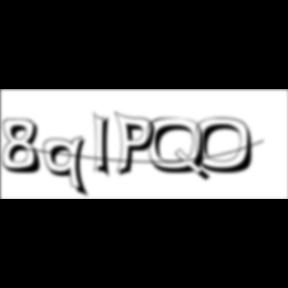8: (2, 117, 48, 176)
I: (93, 110, 117, 182)
O: (196, 117, 260, 176)
P: (115, 110, 162, 180)
Q: (148, 117, 214, 184)
q: (44, 135, 92, 200)
